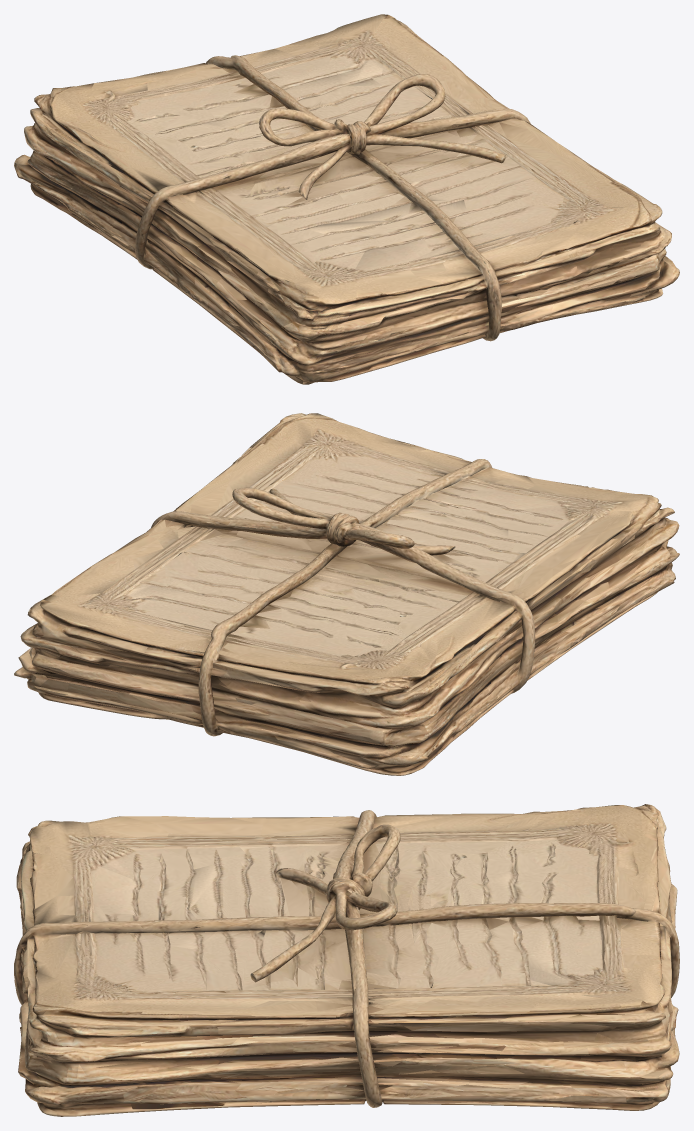
The model's file is bundle-opt.fbx.
The picture shows the model from 3 angles, top to bottom: view 1: azimuth 30°, elevation 25°; view 2: azimuth 150°, elevation 25°; view 3: azimuth 270°, elevation 25°; orthographic projection. The views are drawn at different scales.
Visible parts, largest first — view 1: tripo_node_7e4014f9; view 2: tripo_node_7e4014f9; view 3: tripo_node_7e4014f9.
Part boxes in pixels (x1,y1,x2,y2): tripo_node_7e4014f9: [14, 14, 679, 384]; tripo_node_7e4014f9: [14, 413, 679, 775]; tripo_node_7e4014f9: [14, 804, 679, 1116].
Size of the model in its own units: 78.82 by 25.63 by 97.99.
1 material, 1 textured.
